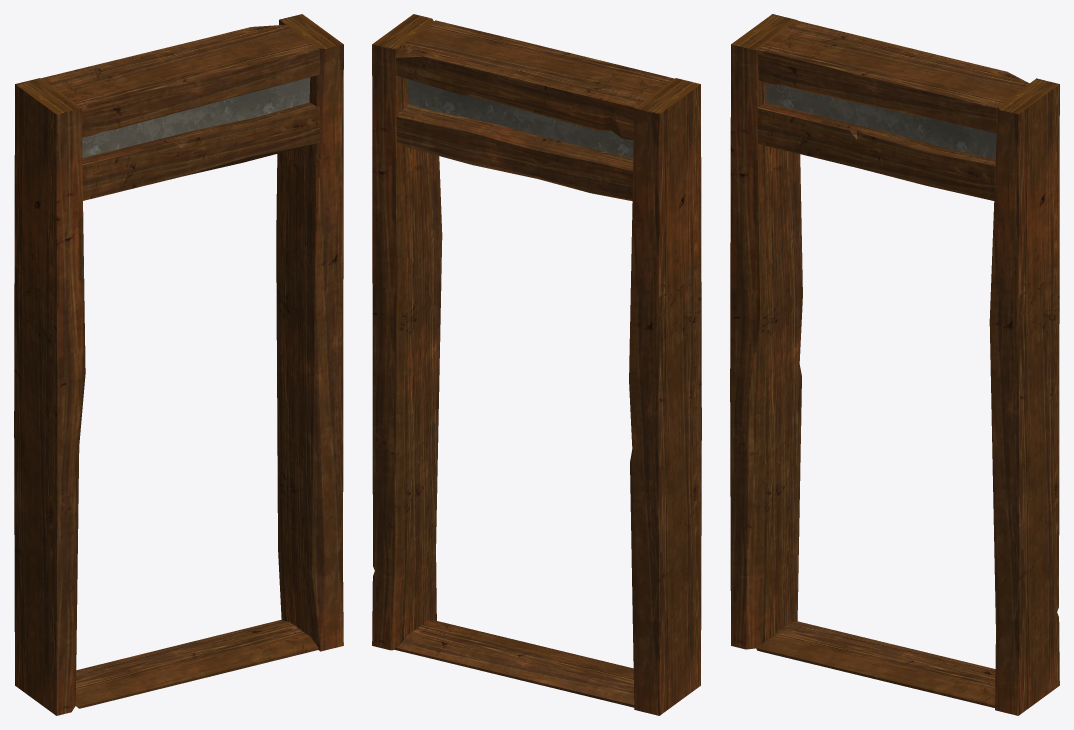
The picture shows the model from 3 angles, left to right: view 1: azimuth 30°, elevation 25°; view 2: azimuth 150°, elevation 25°; view 3: azimuth 330°, elevation 25°; orthographic projection.
Parts seen in each view (by area): view 1: SM_BB_T2_Wall_Doorframe_Narrow_LOD0; view 2: SM_BB_T2_Wall_Doorframe_Narrow_LOD0; view 3: SM_BB_T2_Wall_Doorframe_Narrow_LOD0.
Part boxes in pixels (x1,y1,x2,y2): SM_BB_T2_Wall_Doorframe_Narrow_LOD0: (14, 14, 343, 715); SM_BB_T2_Wall_Doorframe_Narrow_LOD0: (372, 14, 701, 715); SM_BB_T2_Wall_Doorframe_Narrow_LOD0: (730, 14, 1059, 715).
Bounding box in the file's own units: 1.5 × 3 × 0.3913.
Materials: 2 (2 with a texture image).
